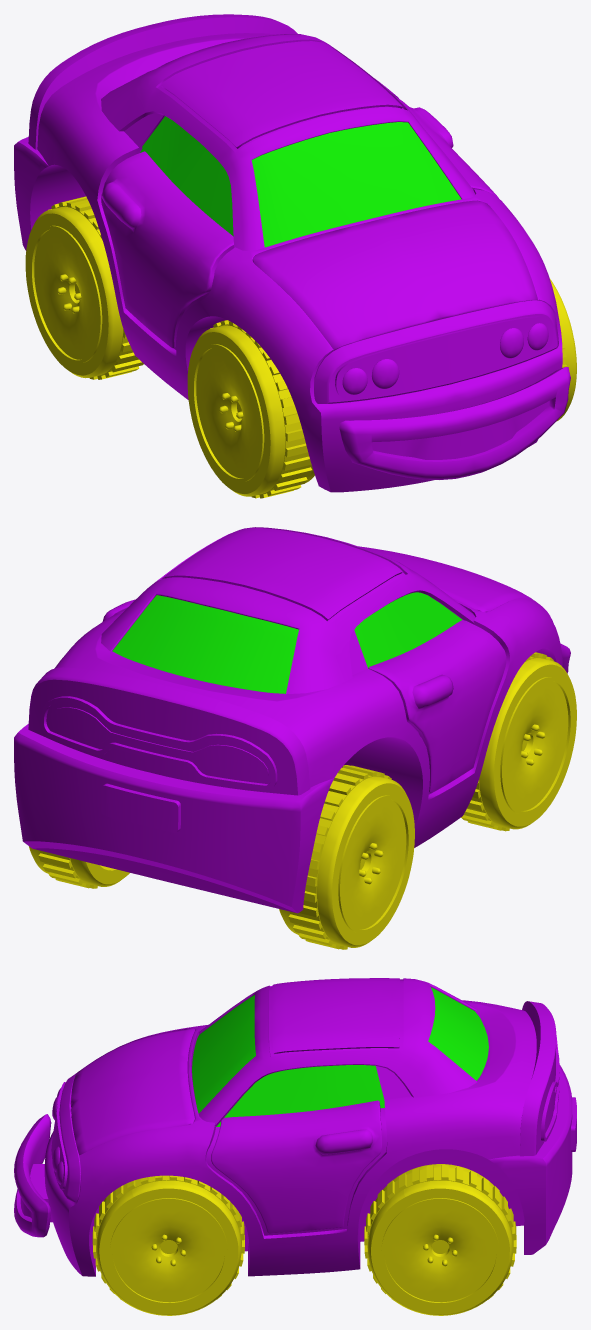
File: CHICCO_GAME.fbx
The picture shows the model from 3 angles, top to bottom: view 1: azimuth 30°, elevation 25°; view 2: azimuth 150°, elevation 25°; view 3: azimuth 270°, elevation 25°; orthographic projection. The views are drawn at different scales.
Visible parts, largest first — view 1: Body_game, Windows_game, Wheelfrontright_game, Wheelbackright_game, WheelFrontleft_game; view 2: Body_game, Windows_game, Wheelbackright_game, Wheelfrontright_game, Wheelbackleft_game; view 3: Body_game, Wheelbackleft_game, WheelFrontleft_game, Windows_game.
Part boxes in pixels (x1,y1,x2,y2): Body_game: (14,14,570,492); Windows_game: (140,116,461,247); Wheelfrontright_game: (187,320,314,498); Wheelbackright_game: (25,196,143,379); WheelFrontleft_game: (549,278,576,421); Body_game: (14,527,570,913); Windows_game: (112,592,462,693); Wheelbackright_game: (279,765,414,949); Wheelfrontright_game: (461,652,576,831); Wheelbackleft_game: (29,846,129,888); Body_game: (14,978,576,1276); Wheelbackleft_game: (364,1164,516,1315); WheelFrontleft_game: (92,1175,244,1315); Windows_game: (192,987,488,1126).
Size of the model in its own units: 282 by 251 by 499.
